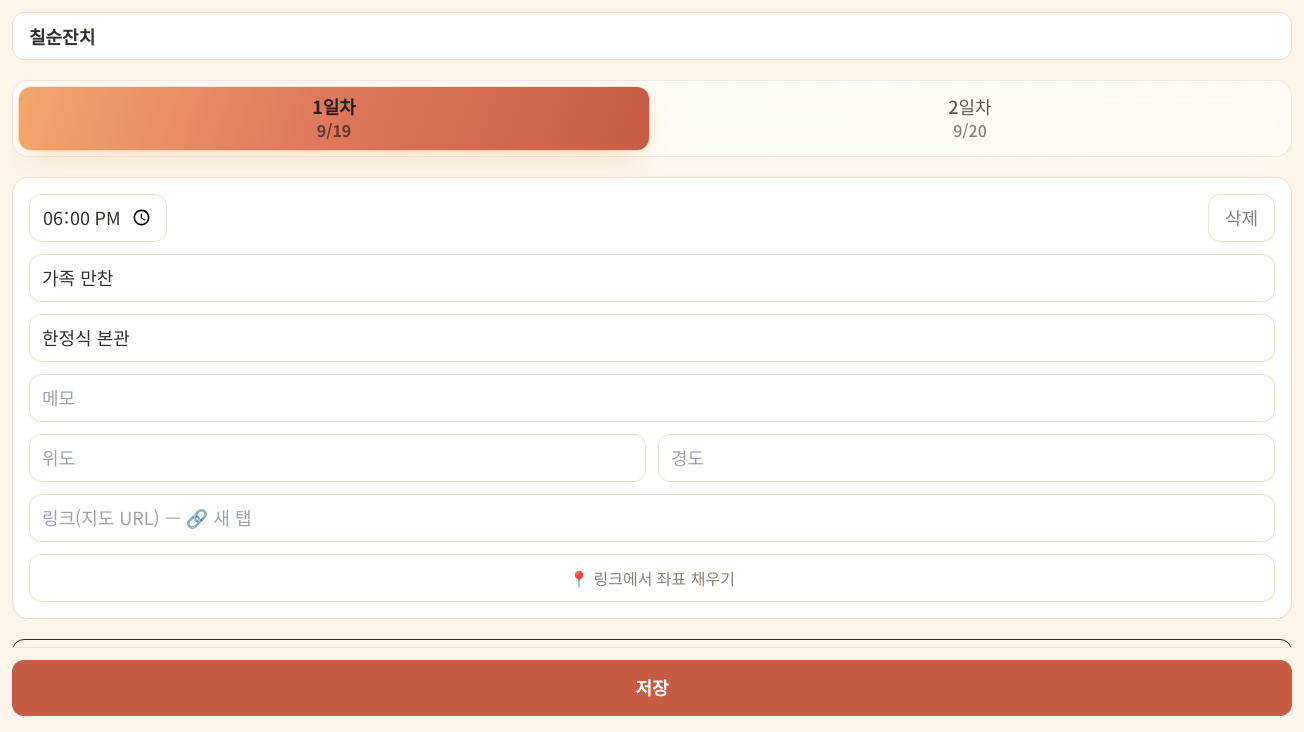
Scenario: AdminForm › 날짜 탭을 바꾸면 그 날 항목이 보인다
The image size is (1304, 732).
Click the tab "2일차 9/20".
click(970, 118)  # box [655,87,1285,150]
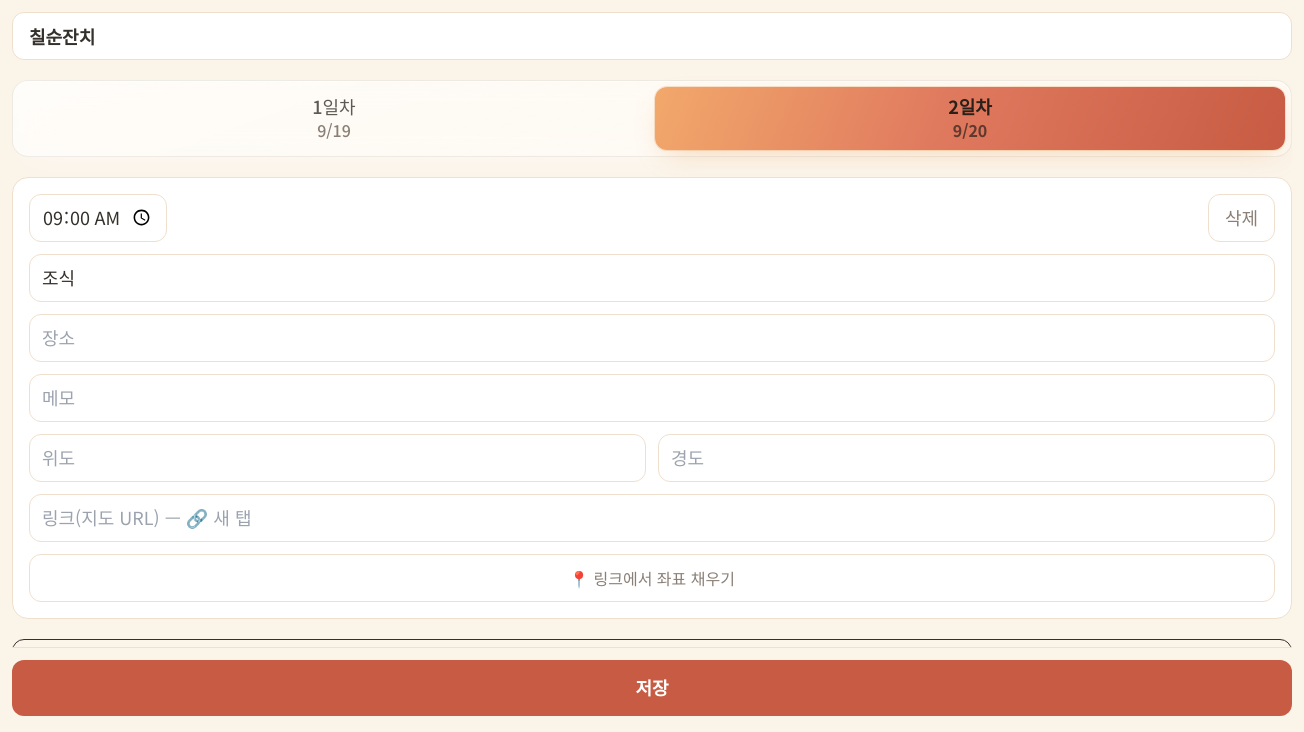
expect the field showing "가족 만찬" is not shown: met
expect the field showing "조식" is shown: met, box [29,254,1275,302]
